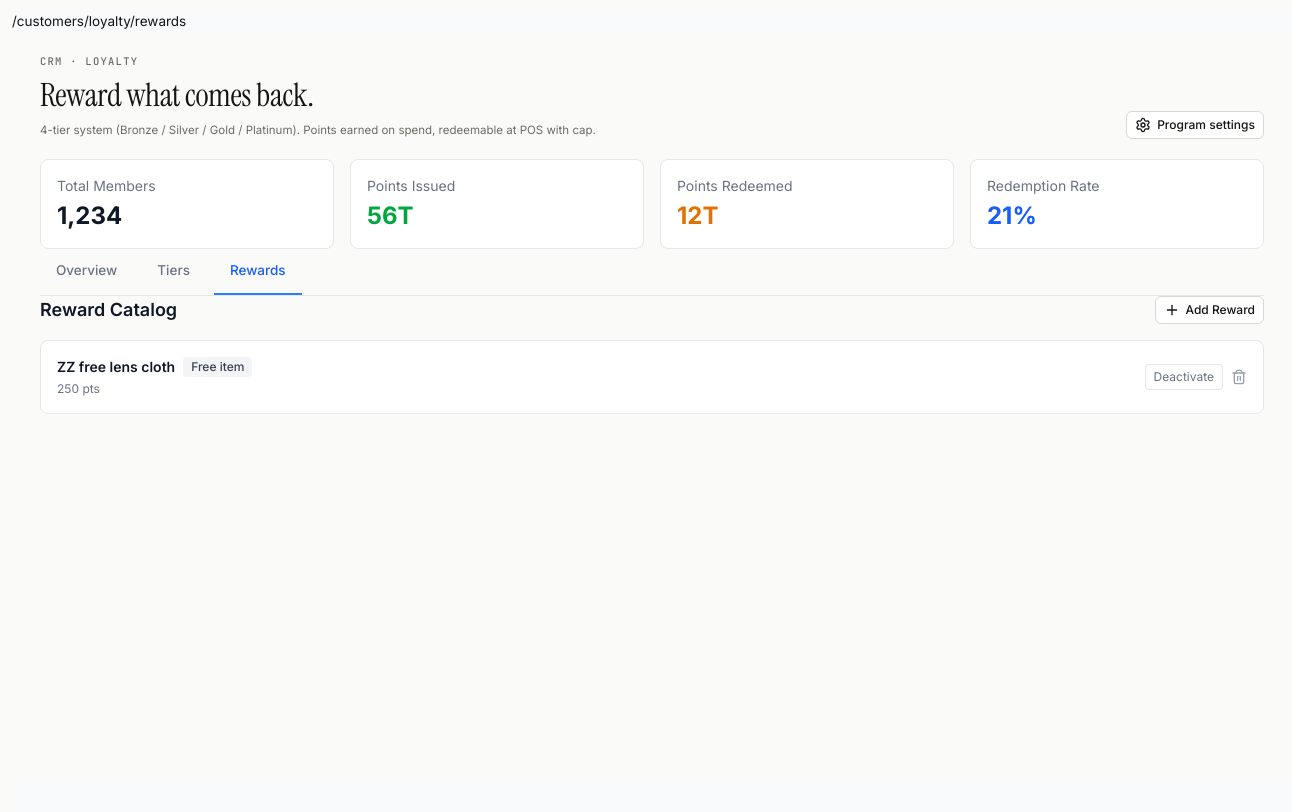
it: the New reward draft survives a visit to another section › typed values are still there after Tiers and back
This screenshot has width=1292, height=812.
Click the button "Add Reward": (1209, 310) [1154,296,1264,324]
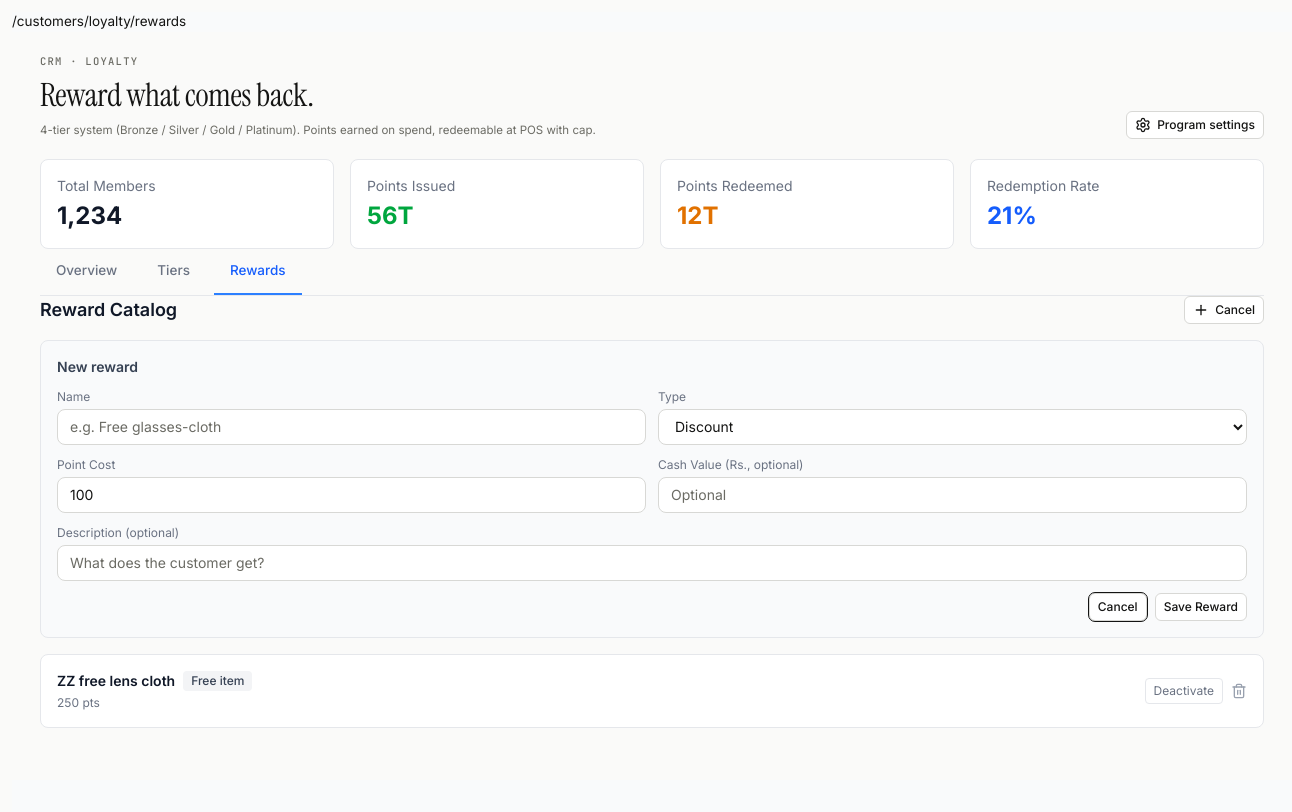
In the field with placeholder "e.g. Free glasses-cloth": (352, 427) [57,409,646,445], type "ZZ half typed"
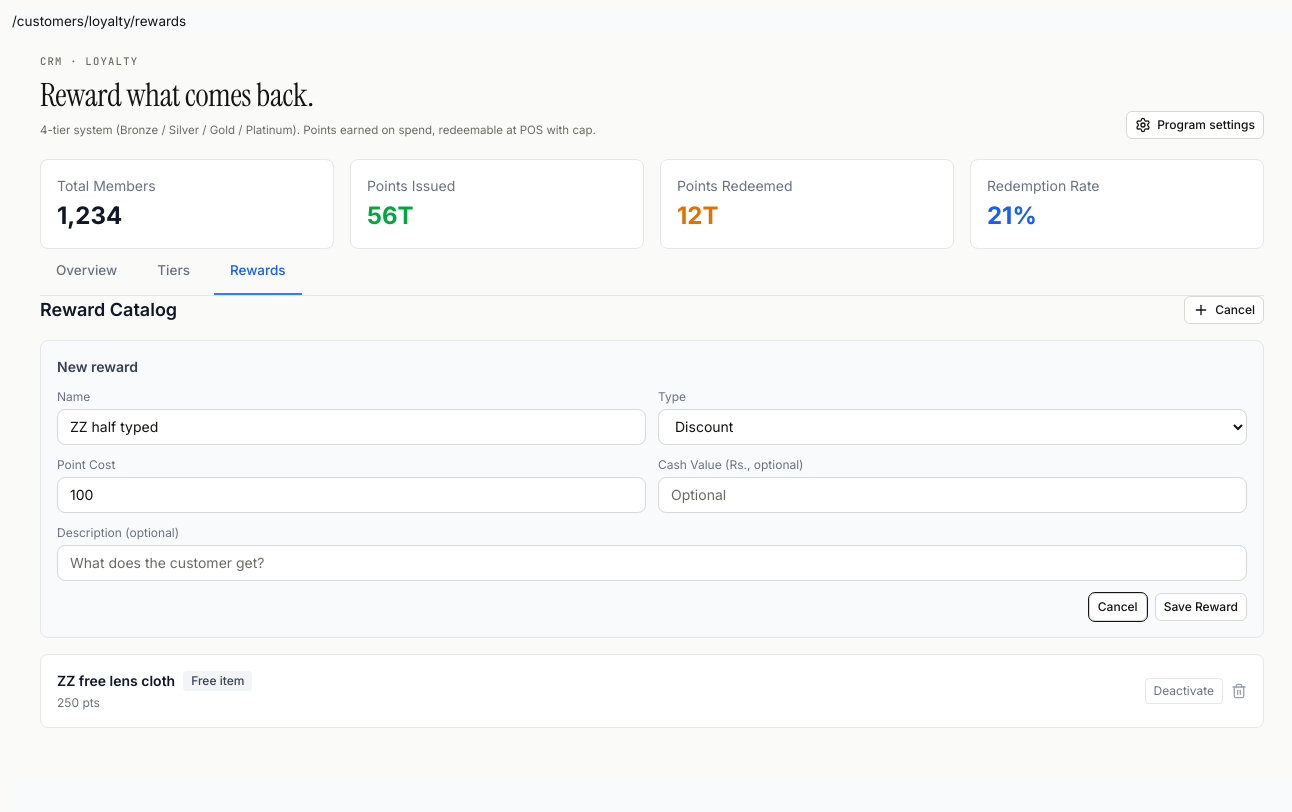
In the field with placeholder "What does the customer get?": (652, 563) [57,545,1247,581], type "ZZ note"
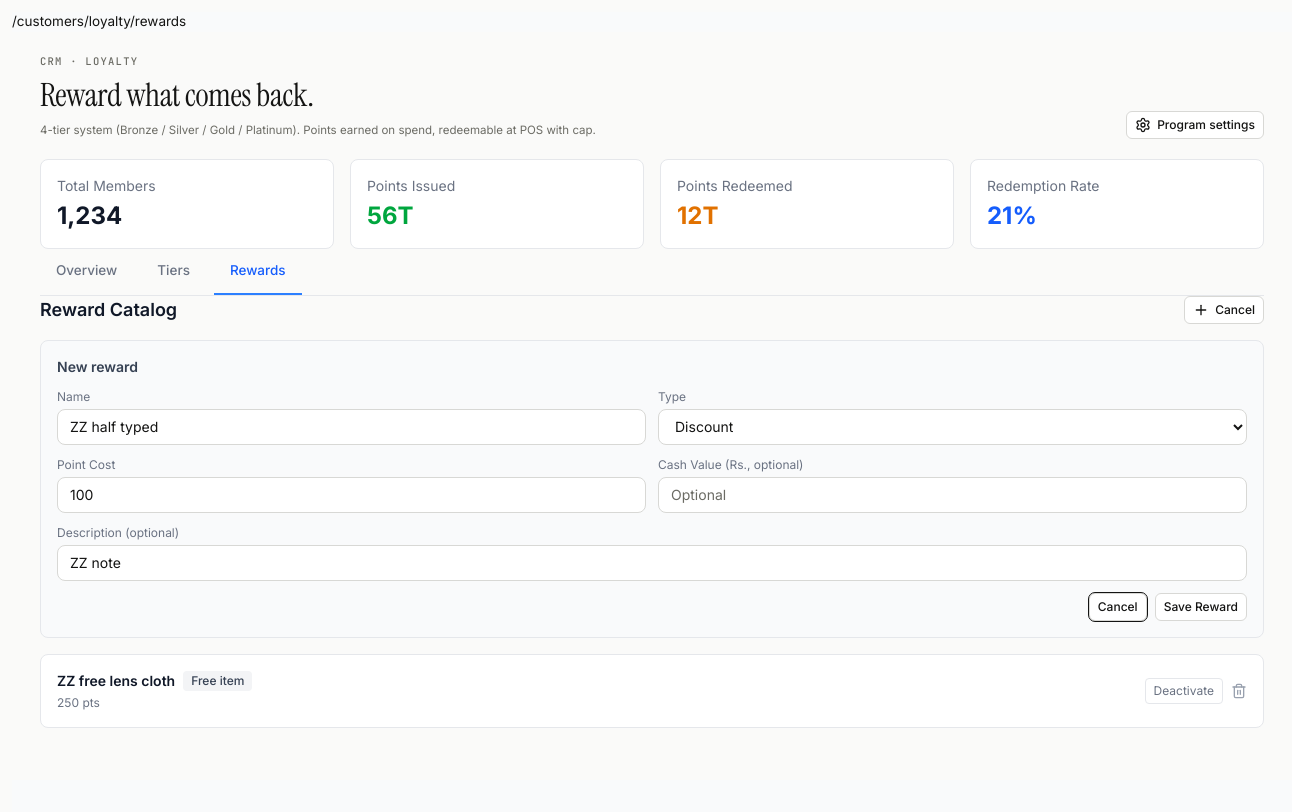
Click the link "Tiers": (174, 270) [157,262,190,278]
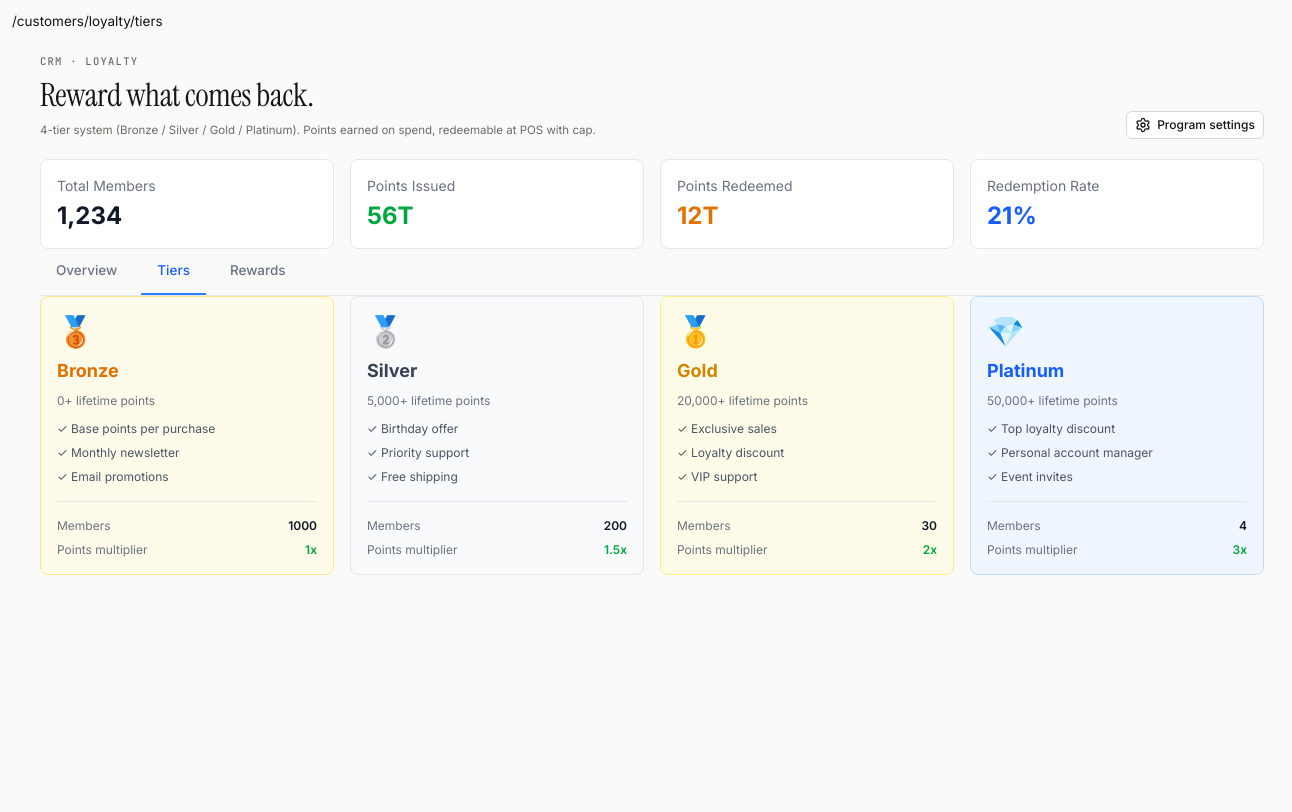
Expected: the text "5,000+ lifetime points" is shown, [367,393,490,408]
Expected: the text "New reward" is gone
Click the link "Rewards": (258, 270) [230,262,286,278]
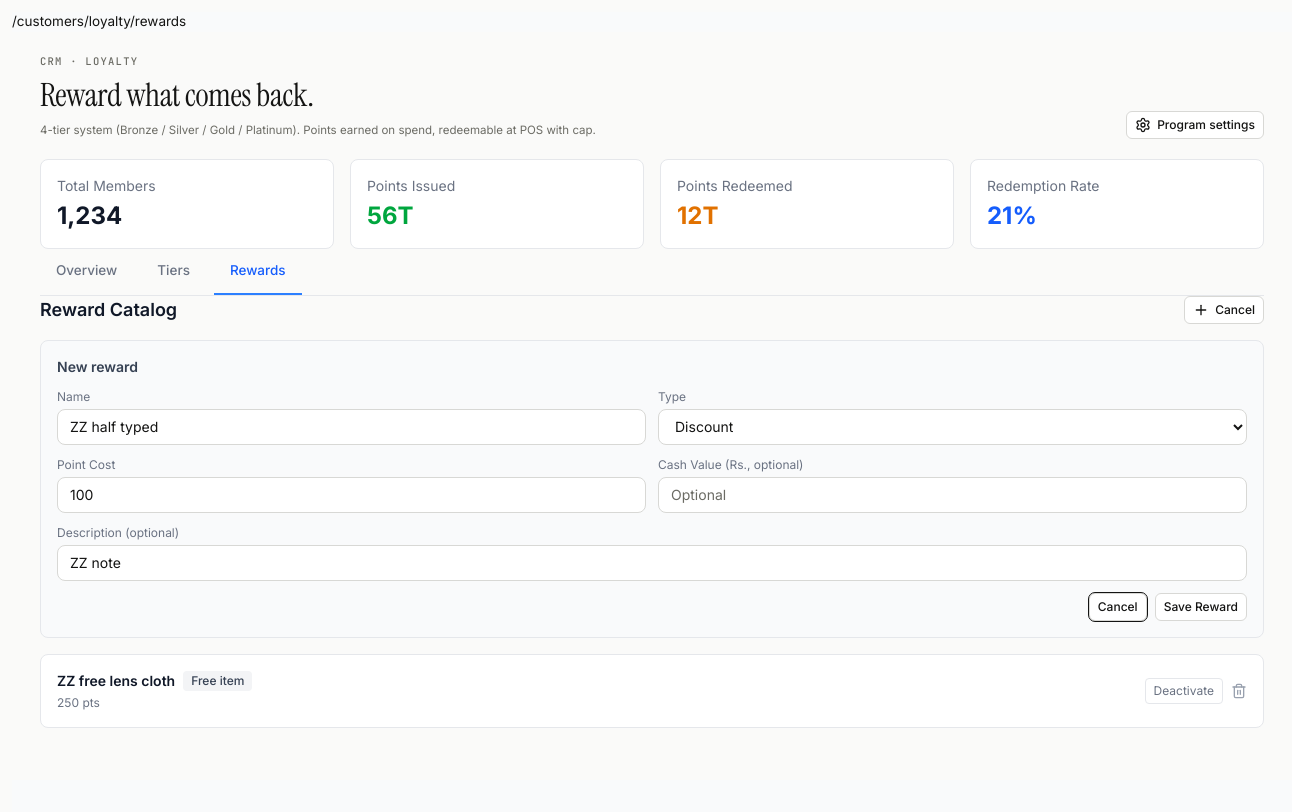
Expected: the text "New reward" is shown, [57,358,138,375]
Expected: the field with placeholder "e.g. Free glasses-cloth" below "Name" holds "ZZ half typed", [57,409,646,445]
Expected: the field with placeholder "What does the customer get?" below "Description (optional)" holds "ZZ note", [57,545,1247,581]
